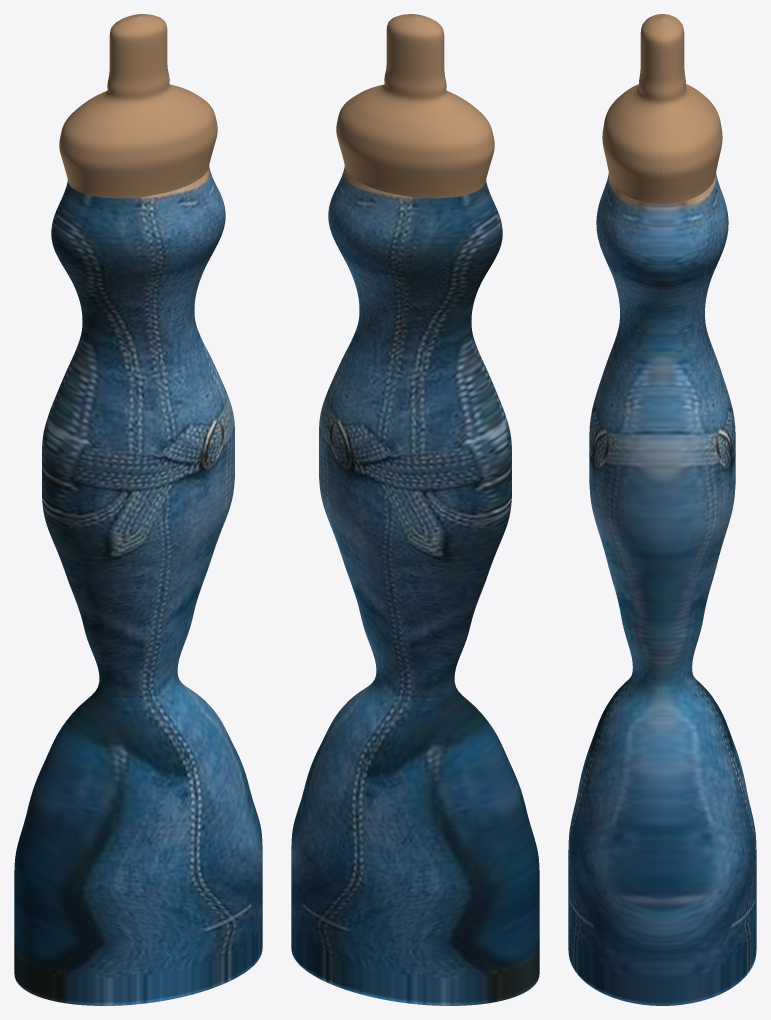
File: denim-form.glb
The picture shows the model from 3 angles, left to right: view 1: azimuth 30°, elevation 25°; view 2: azimuth 150°, elevation 25°; view 3: azimuth 270°, elevation 25°; orthographic projection.
Visible parts, largest first — view 1: DenimDressForm; view 2: DenimDressForm; view 3: DenimDressForm.
Boxes of the visible parts, x1=… form: DenimDressForm: x1=14, y1=14, x2=262, y2=1005; DenimDressForm: x1=291, y1=14, x2=539, y2=1005; DenimDressForm: x1=568, y1=14, x2=756, y2=1005.
Bounding box in the file's own units: 0.4441 × 1.75 × 0.3197.
2 materials, 1 textured.
